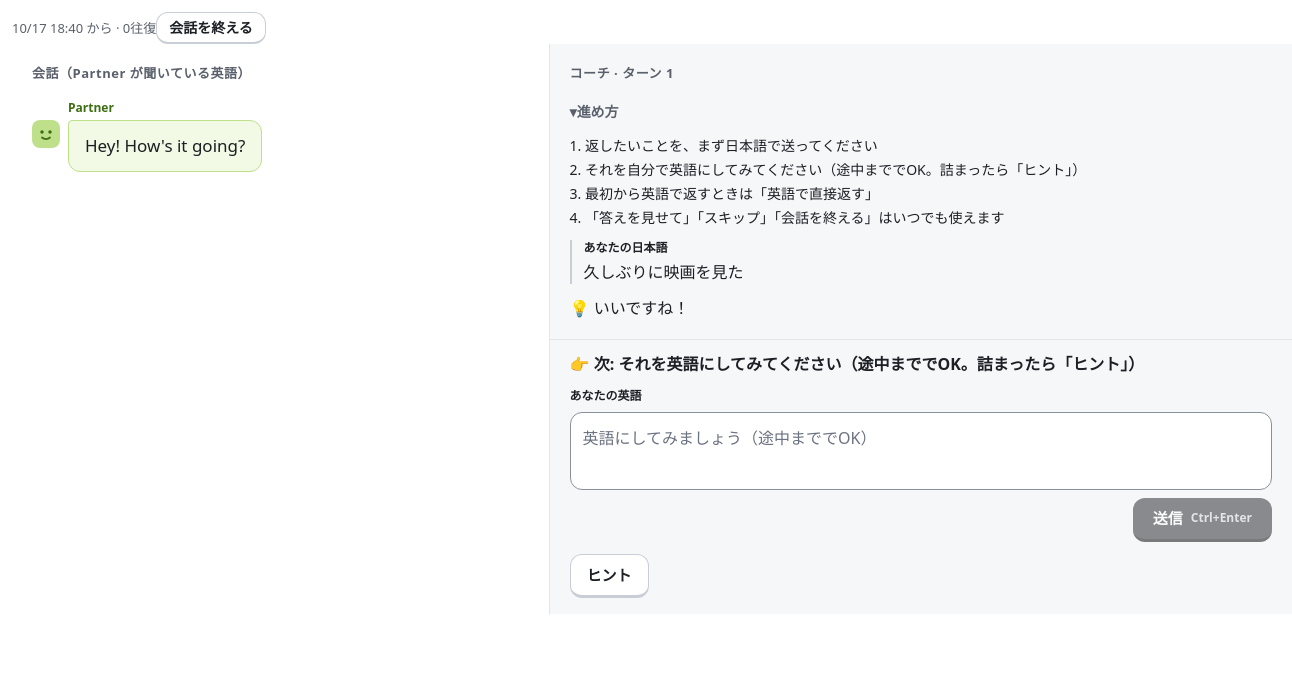
Test: Composer on the conversation screen (REQ-005) › closes the hint box and keeps the partial English after a hint
The image size is (1292, 696).
In the text box labelled "あなたの英語": [921, 451] box [570,412,1272,490], type "I watched"
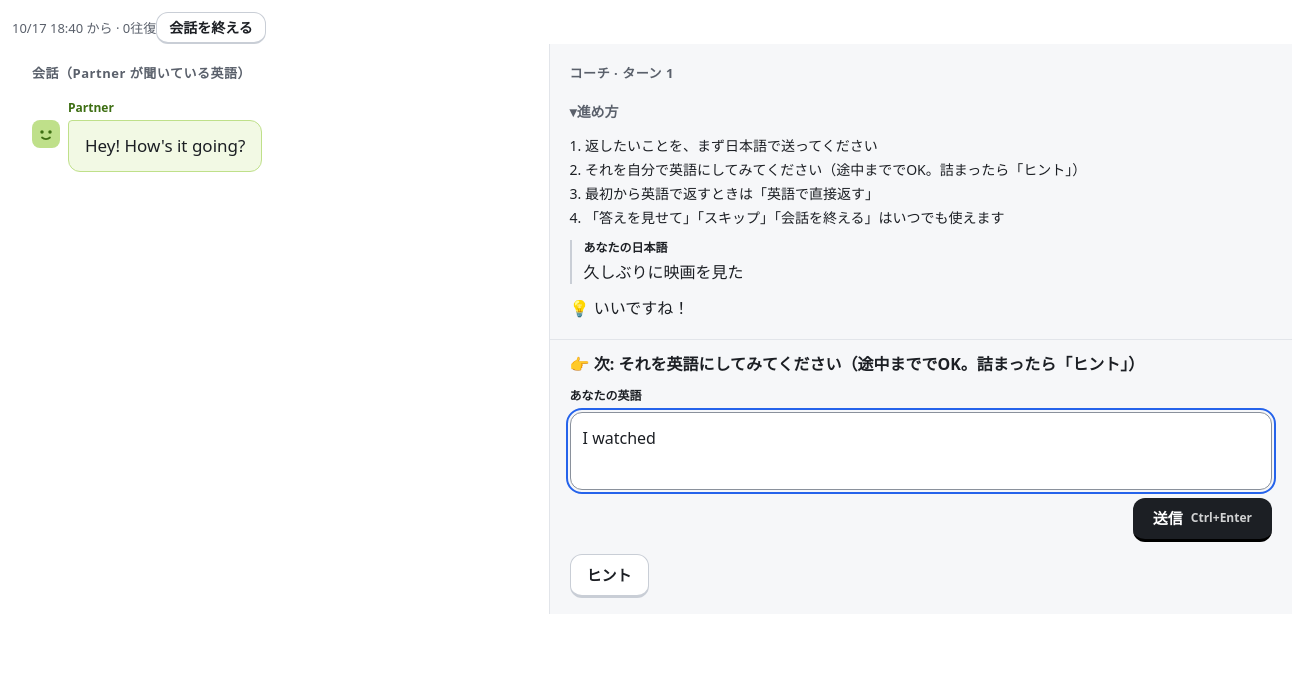
Click the button "ヒント": [609, 576] box [570,554,649,598]
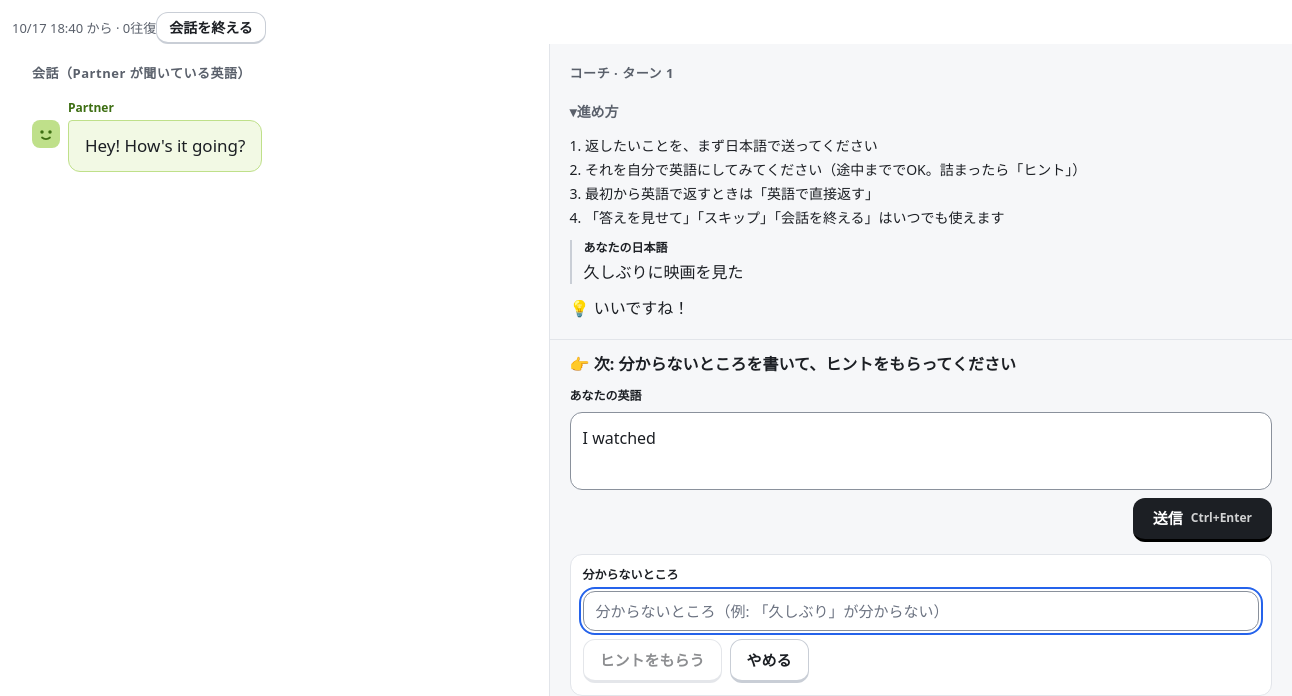
In the field labelled "分からないところ": [921, 611] box [583,591,1259,631], type "久しぶり"
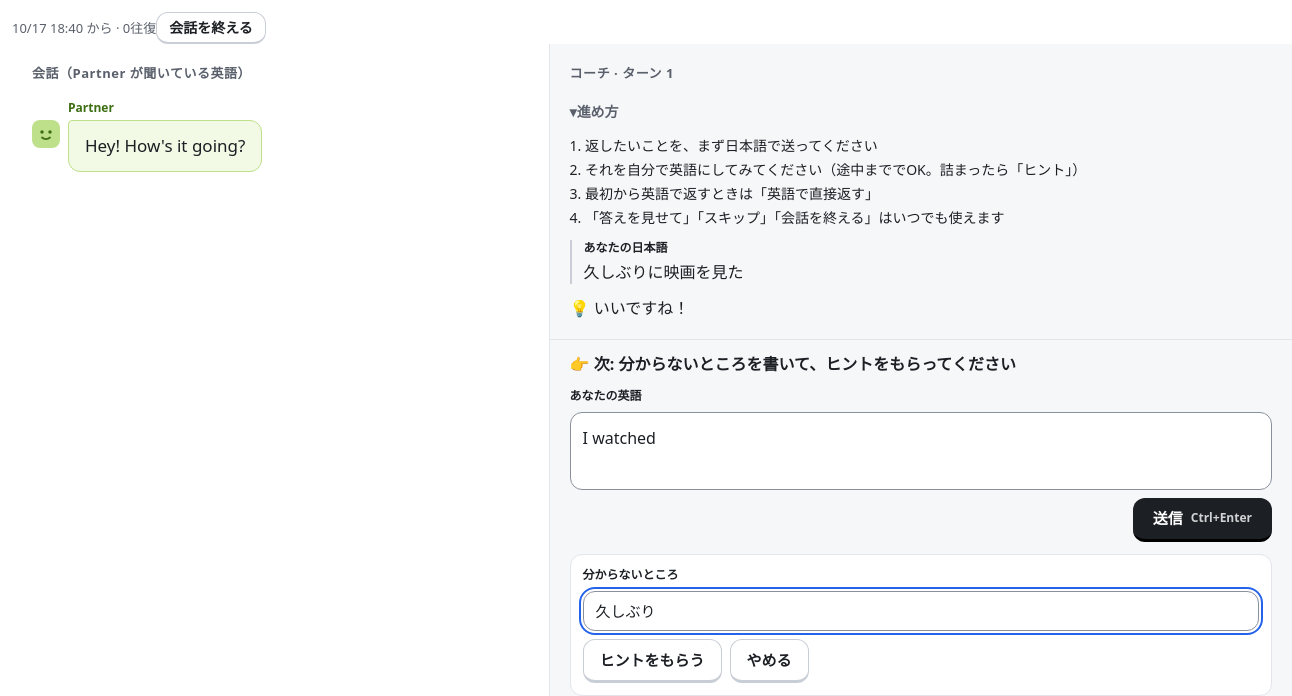
Click the button "ヒントをもらう": [652, 661] box [583,639,722,683]
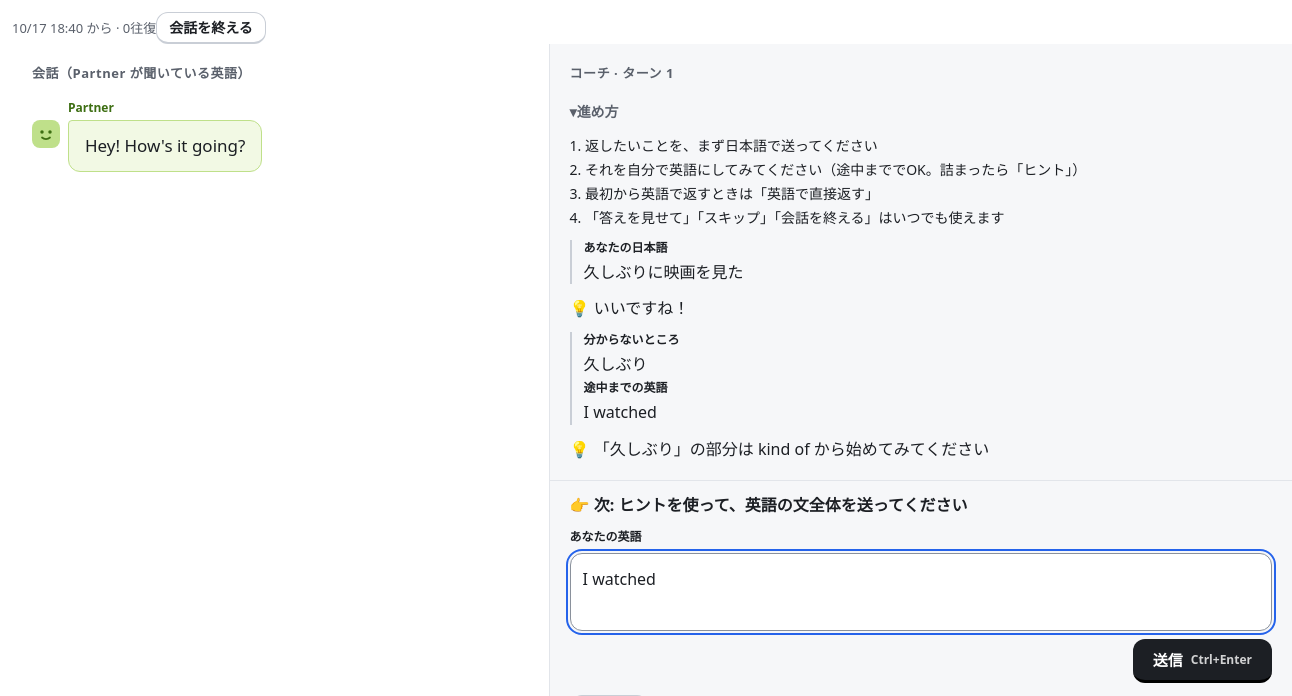
Result: the text "💡 「久しぶり」の部分は kind of から始めてみてください" is shown at [570,438,989,460]
